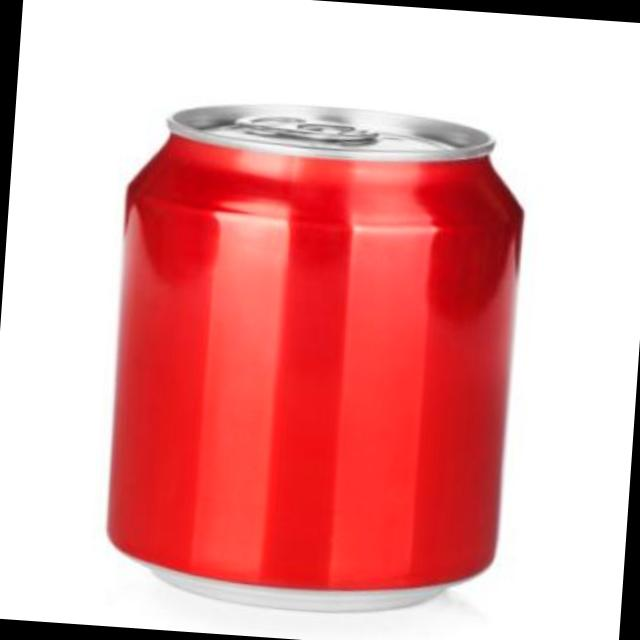metal: (105, 101, 518, 604)
